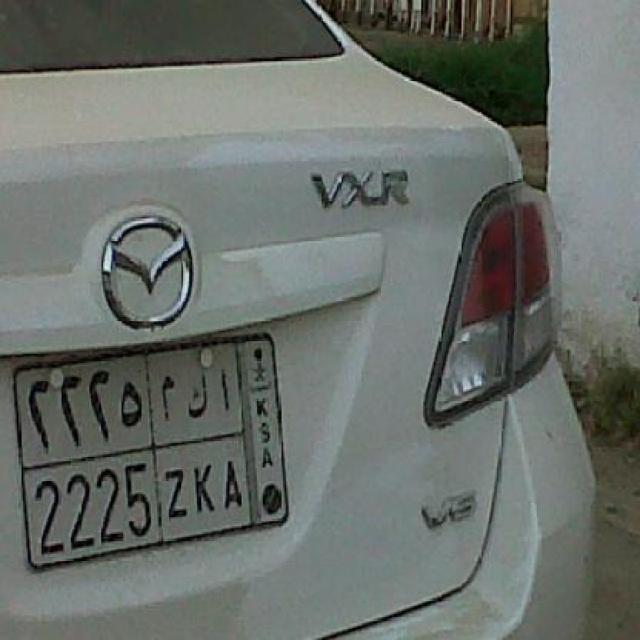license_plate: (9, 328, 294, 578)
